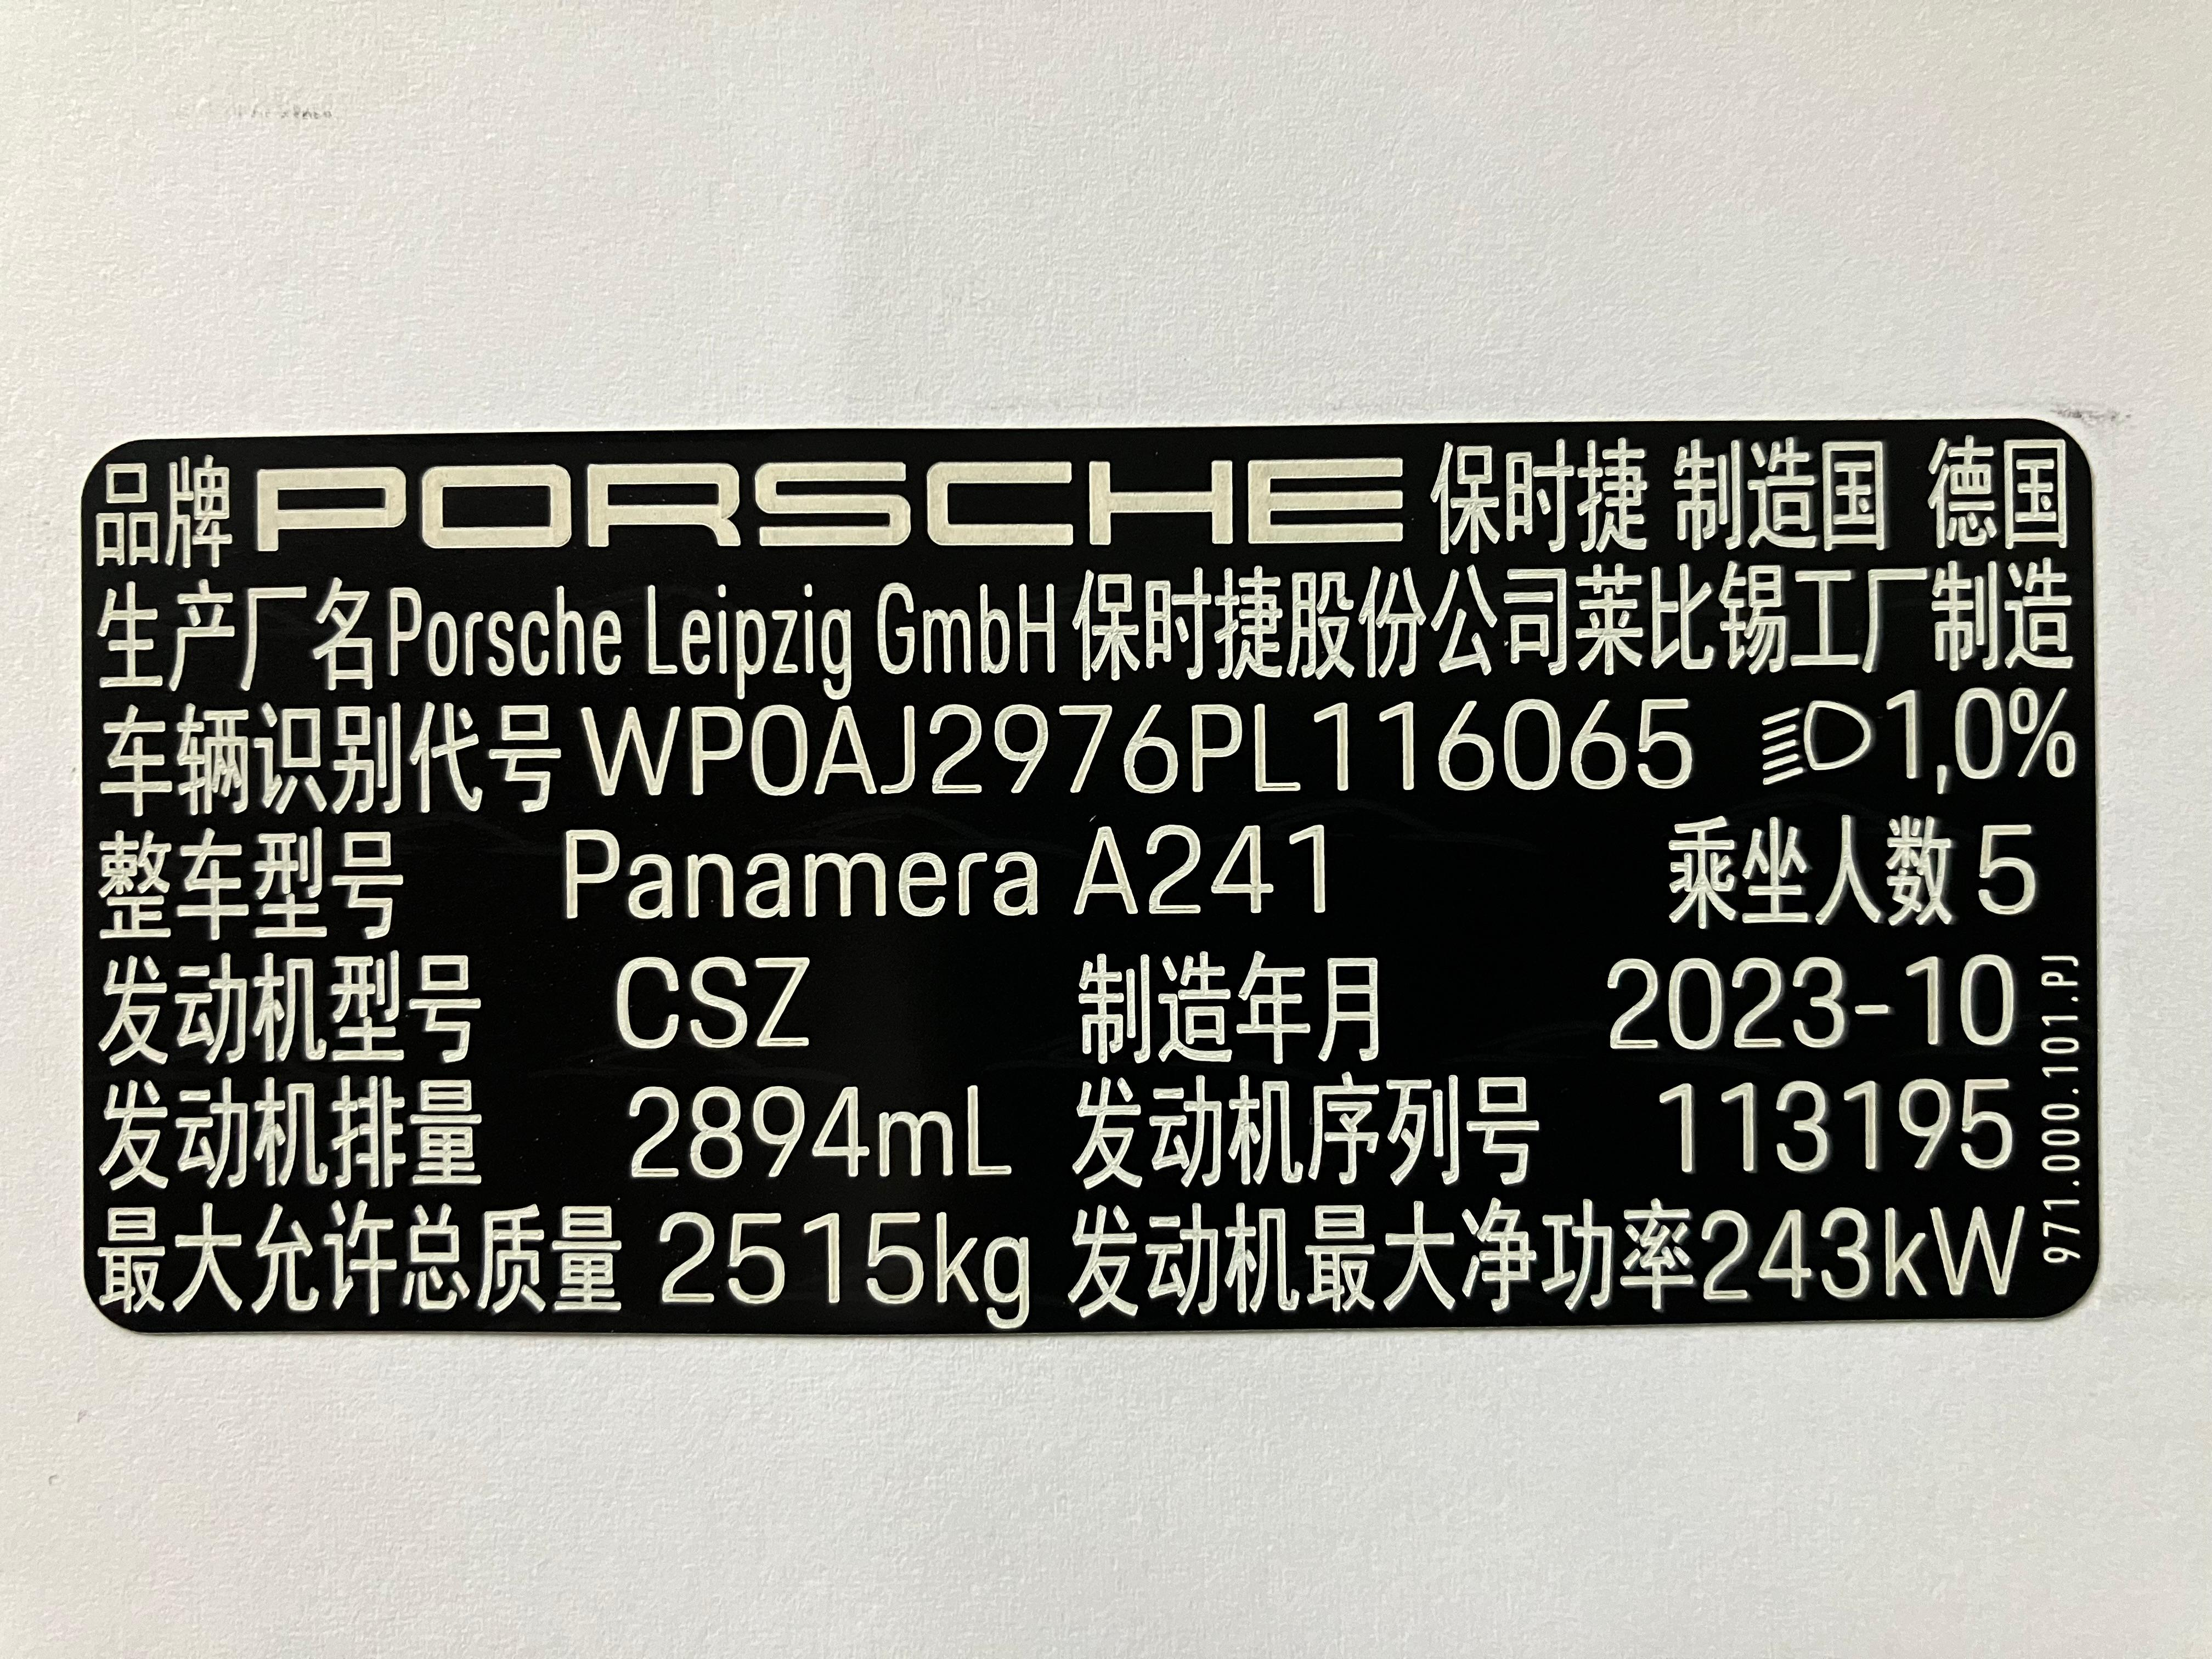Typlabel-China: (82, 418, 2099, 1331)
